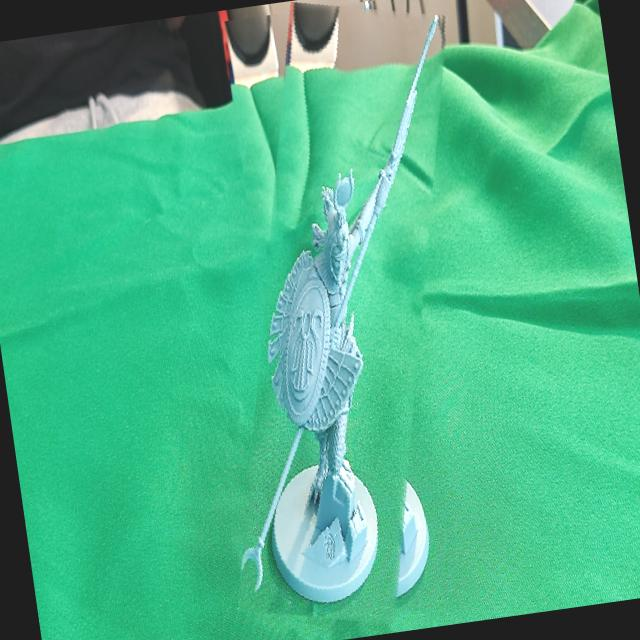isis: (188, 0, 497, 636)
